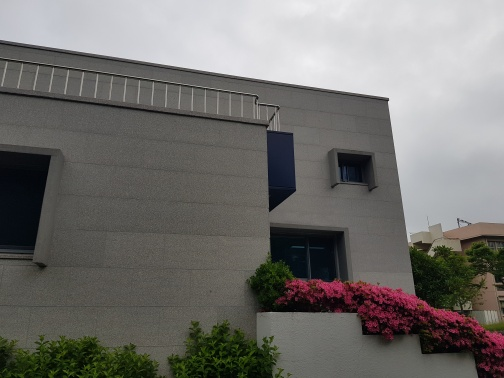College of Social Sciences: (18, 31, 429, 373)
